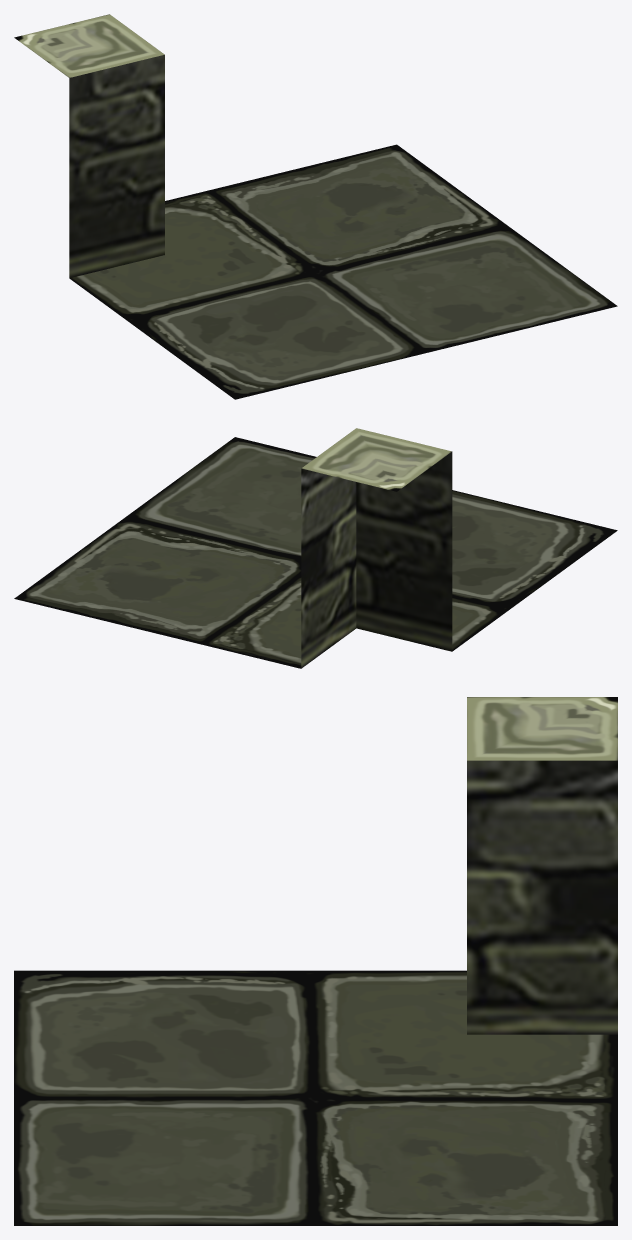
File: nitch.fbx
3 renders of one model, top to bottom at view 1: azimuth 30°, elevation 25°; view 2: azimuth 150°, elevation 25°; view 3: azimuth 270°, elevation 25°, orthographic. The views are drawn at different scales.
Visible parts, largest first — view 1: nitch_geo; view 2: nitch_geo; view 3: nitch_geo.
Boxes of the visible parts, box(x1,y1,x2,y2) form: nitch_geo: box(14, 14, 617, 399); nitch_geo: box(14, 428, 617, 668); nitch_geo: box(14, 697, 617, 1225).
Bounding box in the file's own units: 1 × 0.5 × 1.
Materials: 1 (1 with a texture image).
